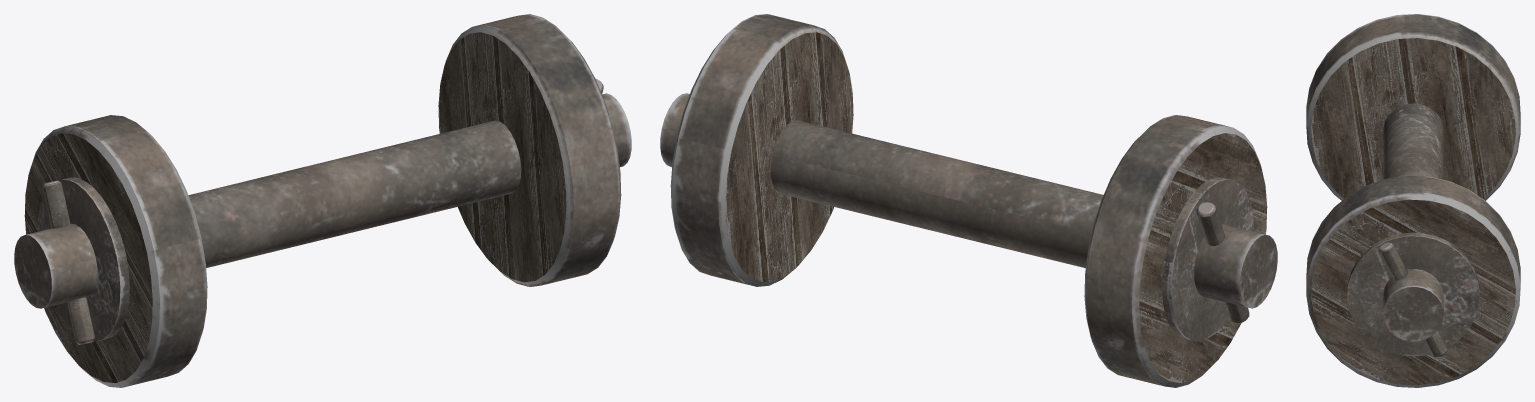
The model's file is SM_Cannon04.FBX.
3 renders of one model, left to right at view 1: azimuth 30°, elevation 25°; view 2: azimuth 150°, elevation 25°; view 3: azimuth 270°, elevation 25°, orthographic. The views are drawn at different scales.
Parts seen in each view (by area): view 1: SM_Cannon04; view 2: SM_Cannon04; view 3: SM_Cannon04.
Boxes of the visible parts, <box> form: SM_Cannon04: <box>14,14,631,387</box>; SM_Cannon04: <box>660,14,1277,387</box>; SM_Cannon04: <box>1306,14,1520,387</box>.
Size of the model in its own units: 139 by 55.74 by 55.74.
